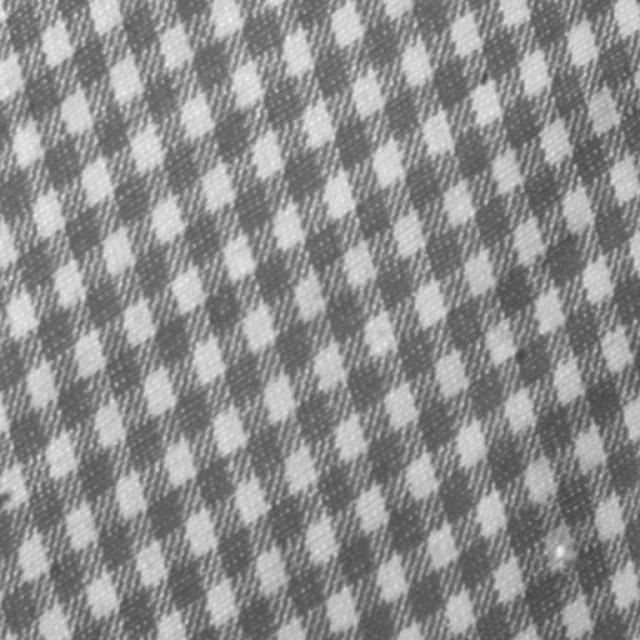Hole-Defect: (545, 528, 575, 570)
